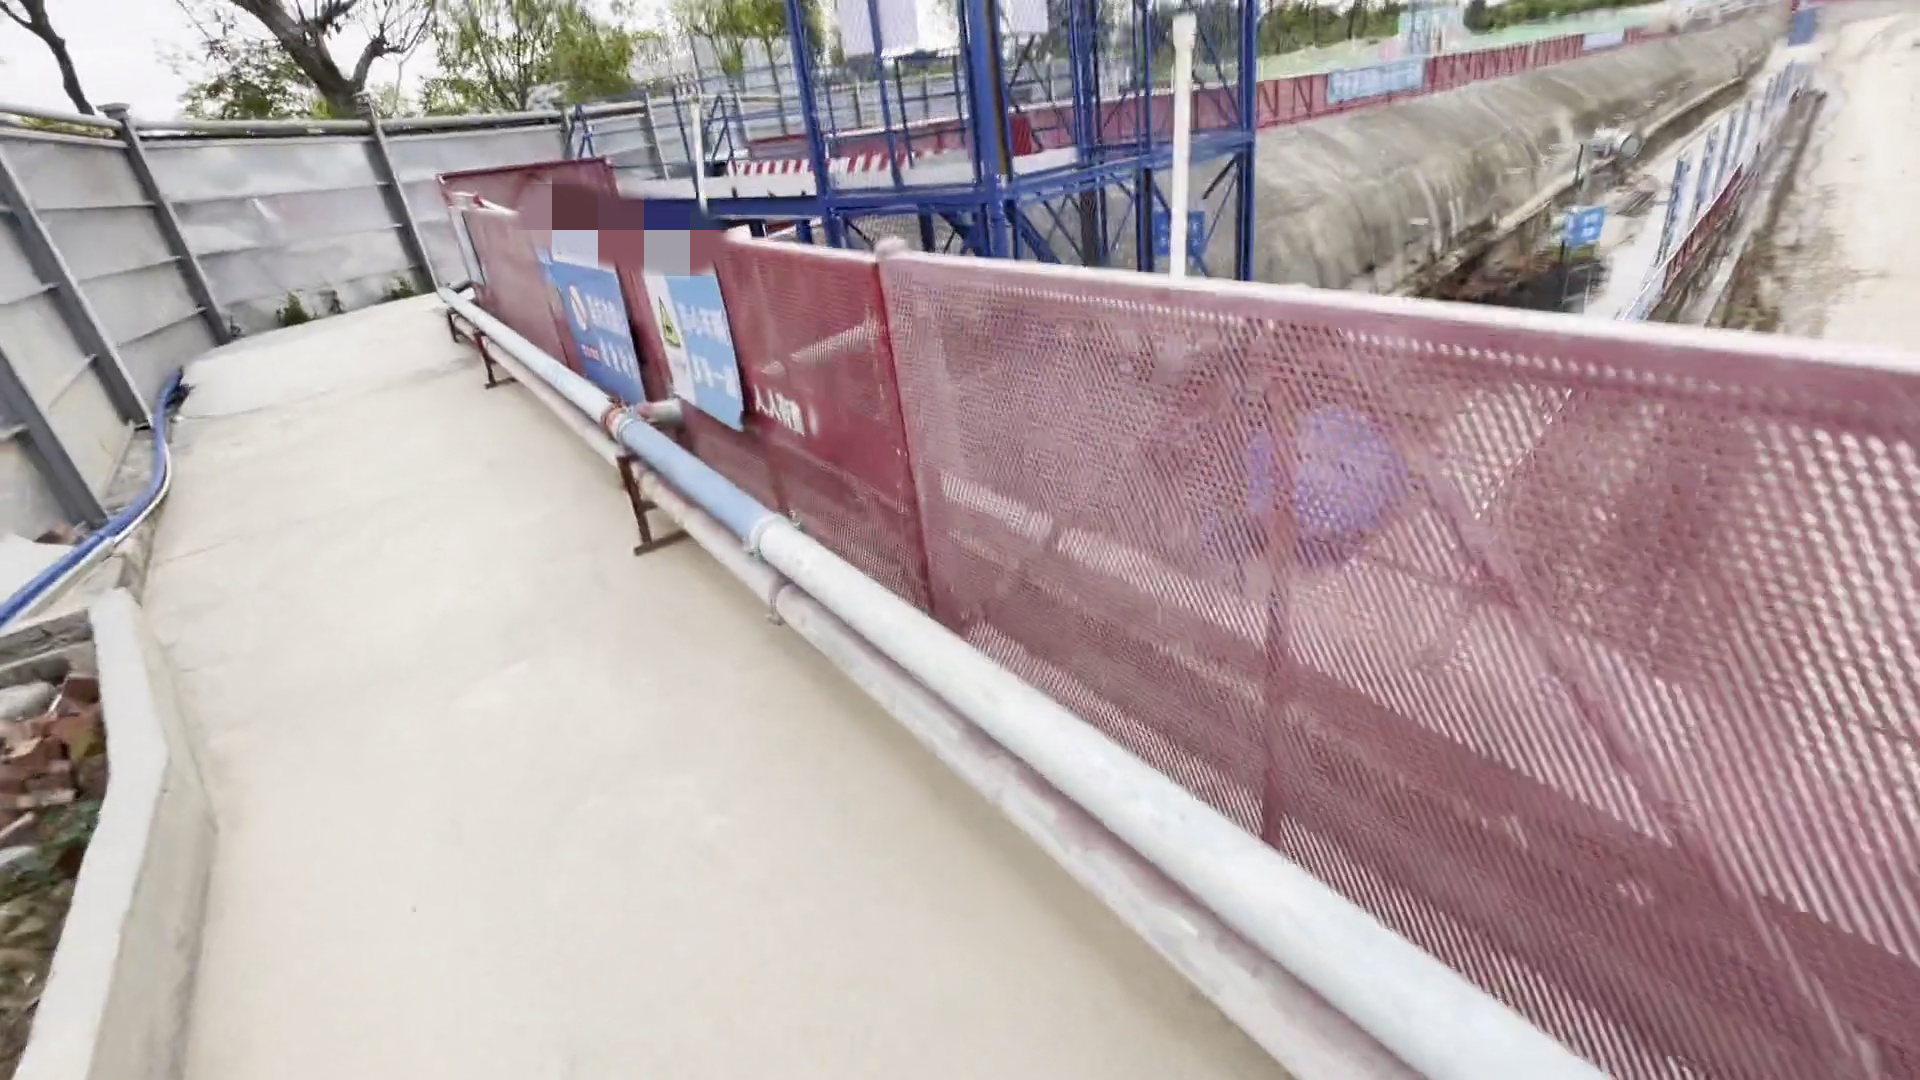fence: (363, 182, 1882, 1065), (1182, 15, 1708, 150)
slogan: (538, 216, 748, 427), (1327, 63, 1431, 103), (1395, 1, 1465, 51)
